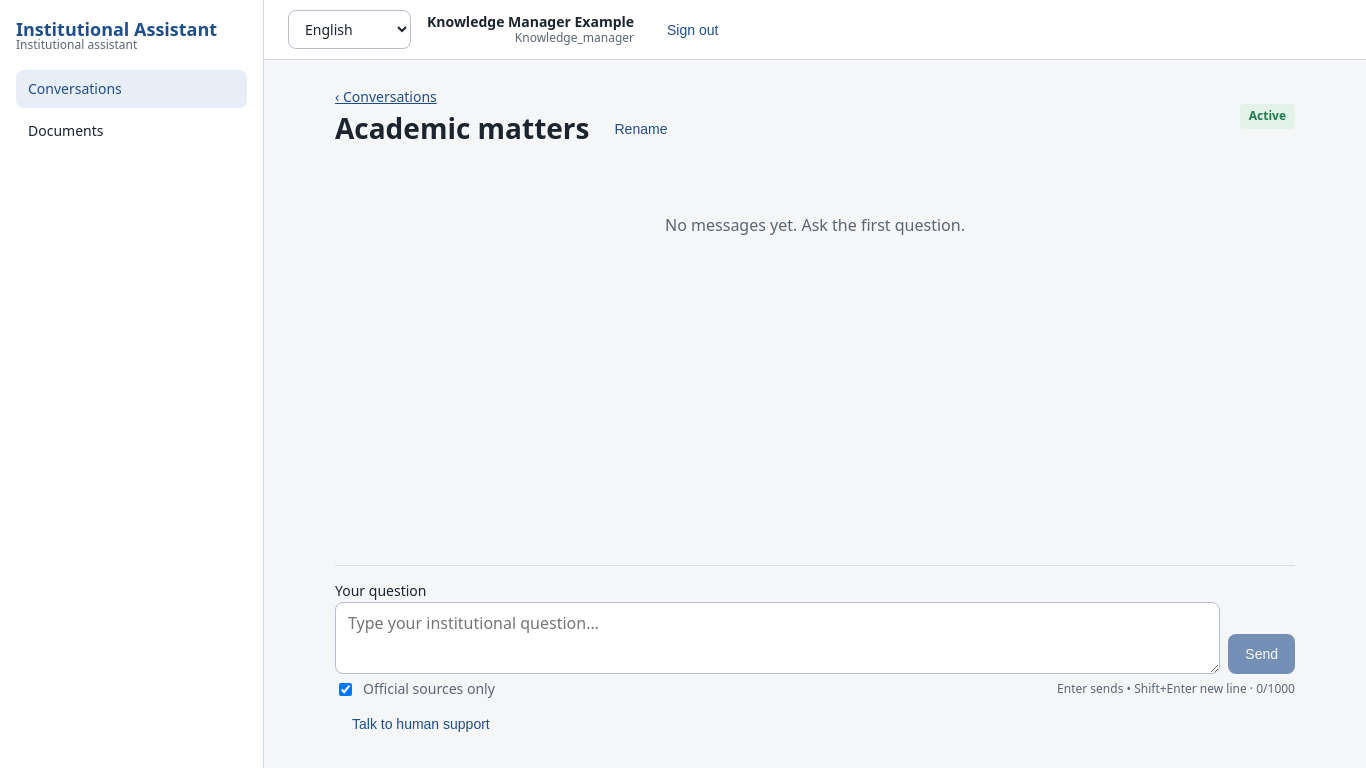
Test: human handoff action › uses the shared error mapping for failures other than 409
Click the button "Talk to human support" at point(421, 724), box top-left (335, 704), bottom-right (507, 744)
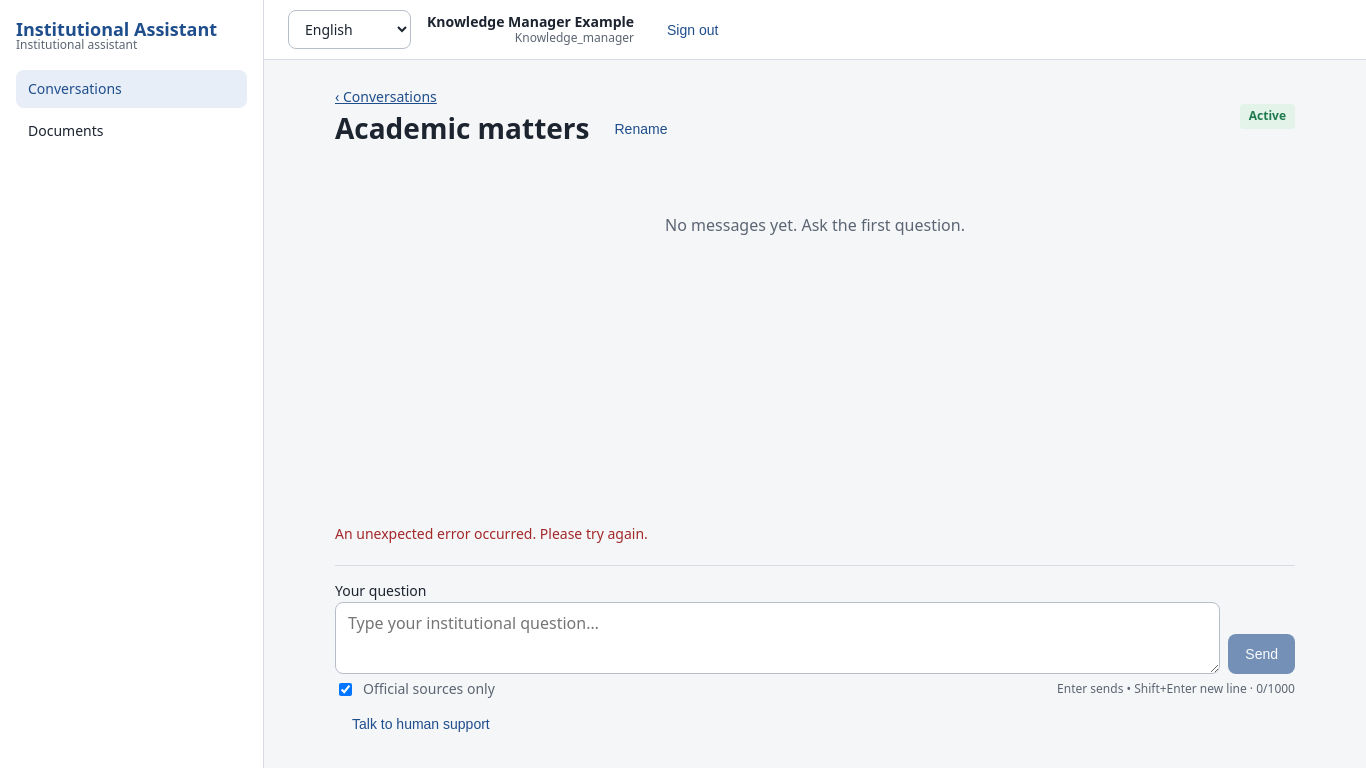
Expected: the message does not show "Could not hand off", top-left (335, 524), bottom-right (648, 543)
Now the message reads "An unexpected error occurred. Please try again.", box top-left (335, 524), bottom-right (648, 543)
